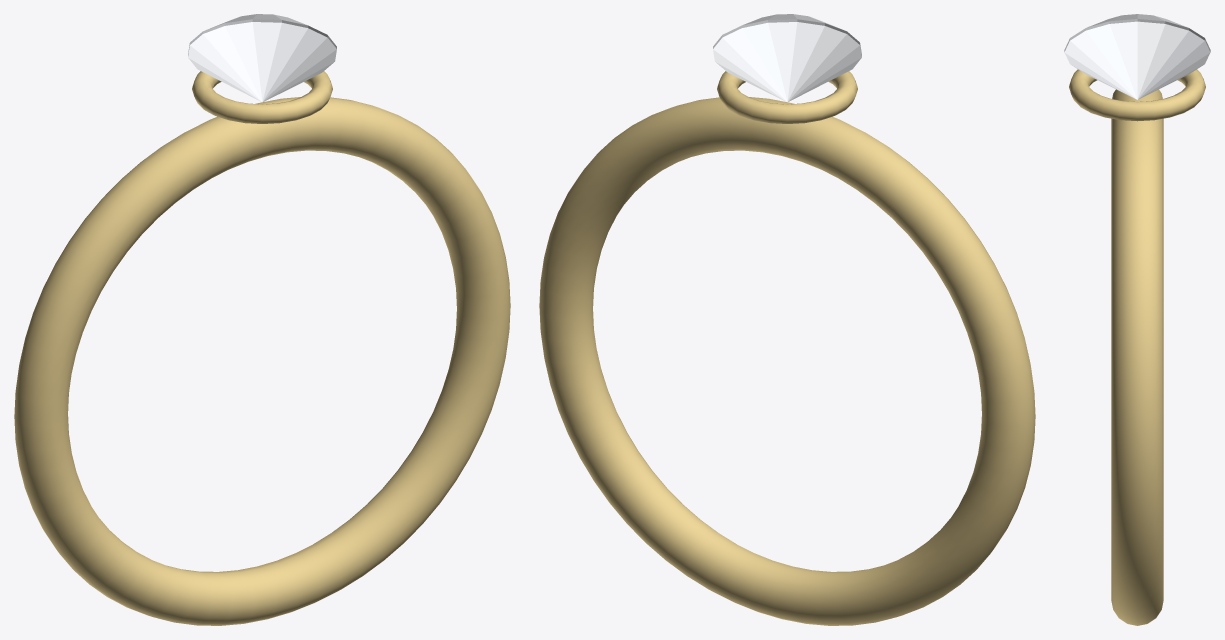
Rendered from ring-solitaire-round.glb.
3 views of the same model, side by side, from view 1: azimuth 30°, elevation 25°; view 2: azimuth 150°, elevation 25°; view 3: azimuth 270°, elevation 25° (orthographic). The views are drawn at different scales.
Visible parts, largest first — view 1: band, stone, head; view 2: band, stone, head; view 3: band, stone, head.
Boxes of the visible parts, x1=… form: band: x1=14, y1=97, x2=510, y2=625; stone: x1=188, y1=14, x2=336, y2=102; head: x1=192, y1=71, x2=332, y2=123; band: x1=539, y1=97, x2=1035, y2=625; stone: x1=713, y1=14, x2=861, y2=102; head: x1=717, y1=71, x2=857, y2=123; band: x1=1111, y1=89, x2=1163, y2=625; stone: x1=1064, y1=14, x2=1210, y2=99; head: x1=1069, y1=69, x2=1205, y2=121.
Size of the model in its own units: 1.88 by 2.15 by 0.5.
